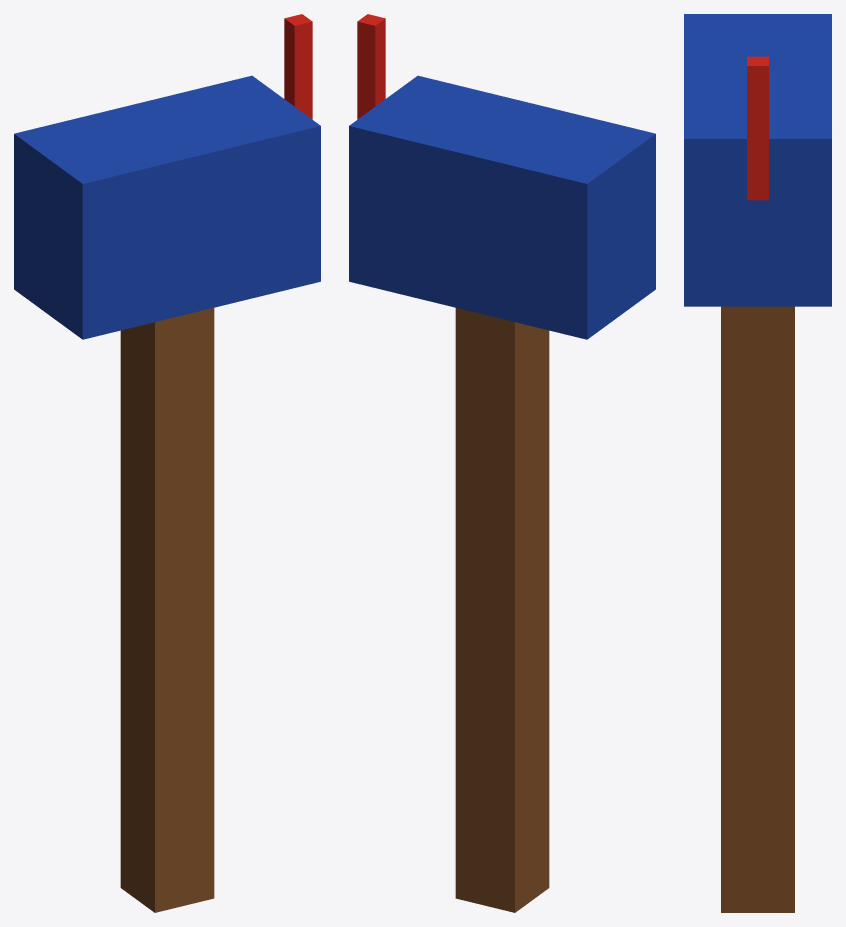
Rendered from mailbox.glb.
3 views of the same model, side by side, from view 1: azimuth 30°, elevation 25°; view 2: azimuth 150°, elevation 25°; view 3: azimuth 270°, elevation 25° (orthographic). The views are drawn at different scales.
Parts seen in each view (by area): view 1: mailbox; view 2: mailbox; view 3: mailbox.
Part boxes in pixels (<box>): mailbox: <box>14,14,320,912</box>; mailbox: <box>349,14,655,912</box>; mailbox: <box>684,14,831,912</box>.
Size of the model in its own units: 0.435 by 1.35 by 0.2.
